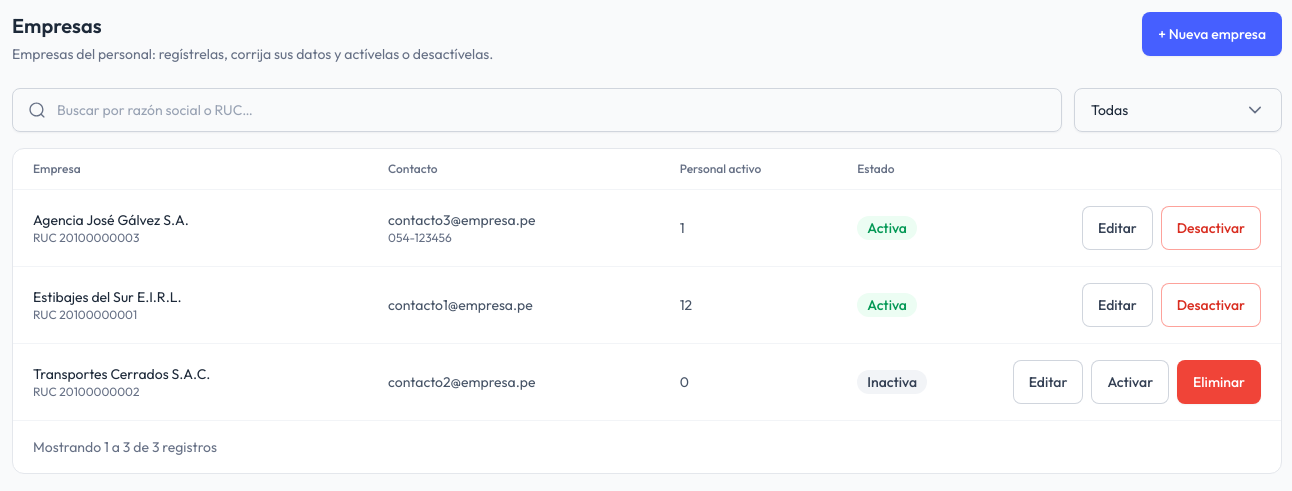
Test: vista Empresas › lista con personal activo y estado, y busca sin importar tildes
Check: the text "Estibajes del Sur E.I.R.L." is shown, box [33, 288, 182, 306]
Check: the text "Inactiva" is shown, box [857, 370, 927, 394]
In the field with placeholder "Buscar por razón social o RUC…": (537, 110) [12, 88, 1062, 132], type "jose galvez"
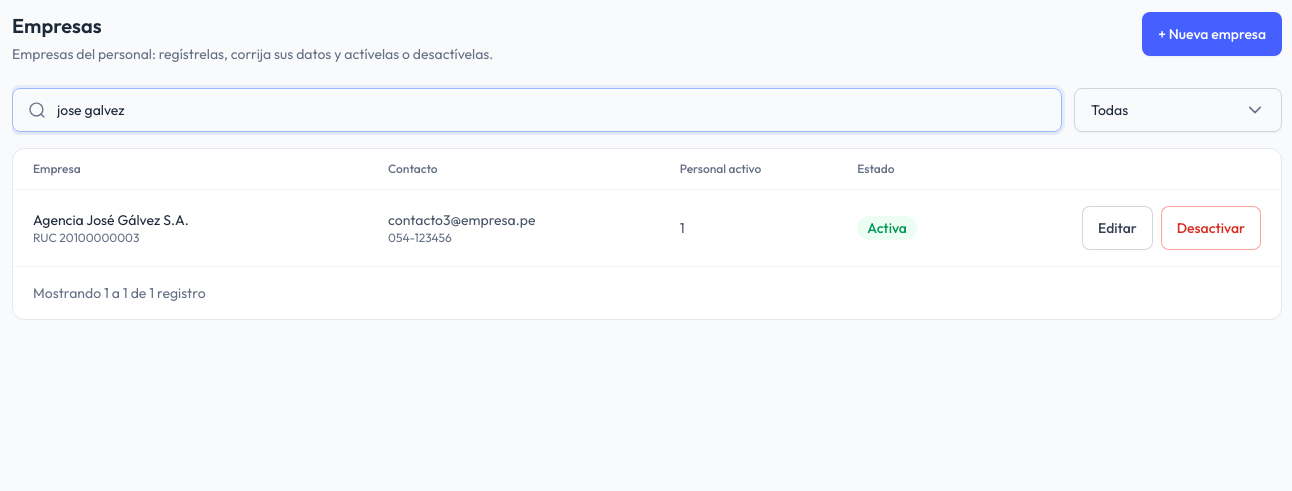
Check: the text "Agencia José Gálvez S.A." is shown, box [33, 211, 189, 229]
Check: the text "Estibajes del Sur E.I.R.L." is gone
